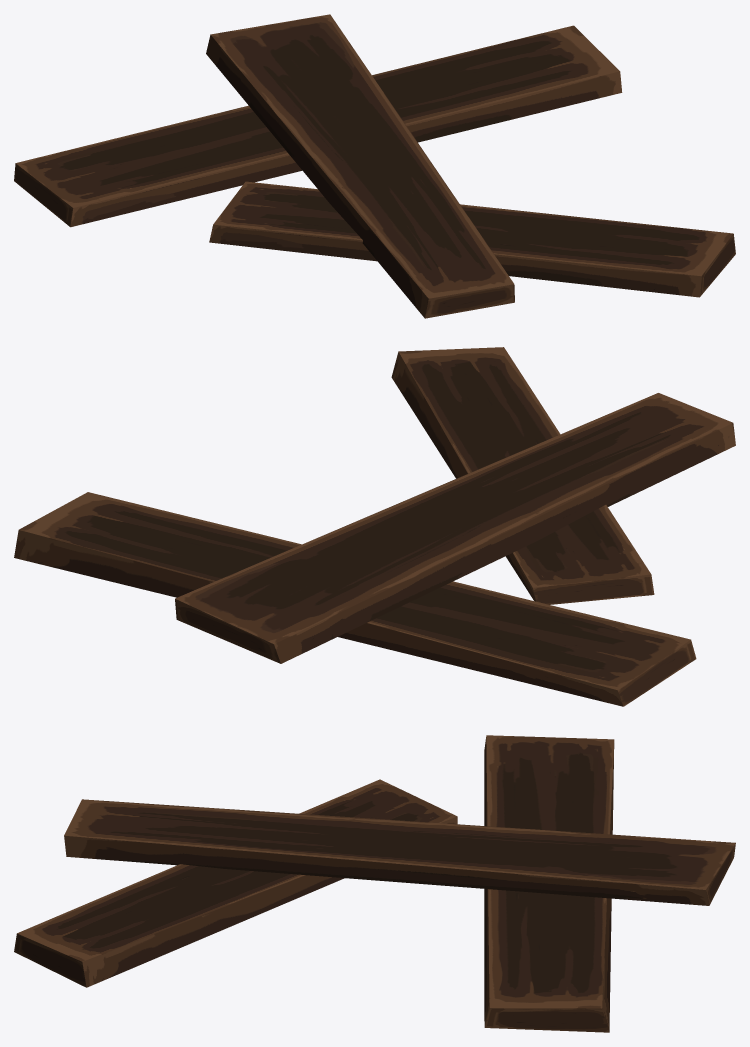
The model's file is SM_PROP_planks_dungeon_03.fbx.
3 views of the same model, one above another, from view 1: azimuth 30°, elevation 25°; view 2: azimuth 150°, elevation 25°; view 3: azimuth 270°, elevation 25° (orthographic). The views are drawn at different scales.
Visible parts, largest first — view 1: SM_PROP_planks_dungeon_03; view 2: SM_PROP_planks_dungeon_03; view 3: SM_PROP_planks_dungeon_03.
Boxes of the visible parts, <box> form: SM_PROP_planks_dungeon_03: <box>14,14,735,318</box>; SM_PROP_planks_dungeon_03: <box>14,347,735,706</box>; SM_PROP_planks_dungeon_03: <box>14,735,735,1032</box>.
Bounding box in the file's own units: 164 × 12.41 × 178.
